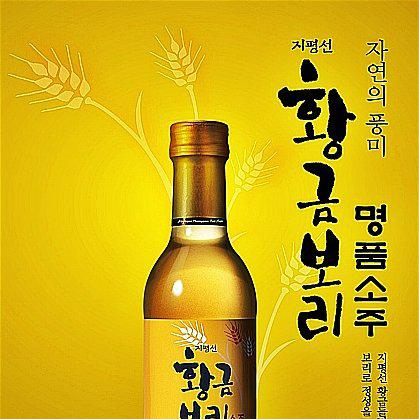soju: (138, 119, 261, 419)
